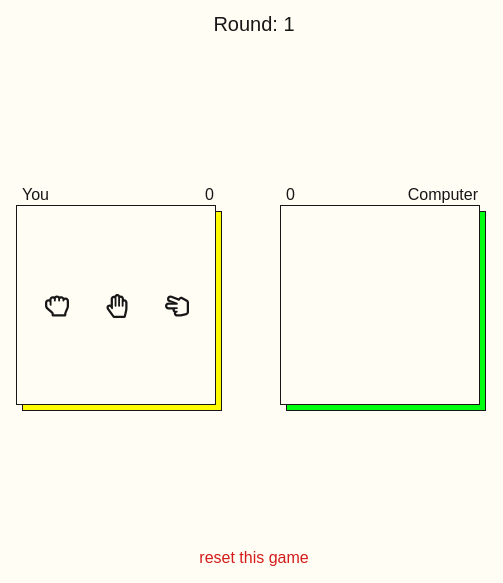
Test: Rock Paper Scissors › User selections › user selects rock
Click the 1st button with test id "rps-user-choice".
click(57, 306)  # box left=37, top=286, right=77, bottom=326
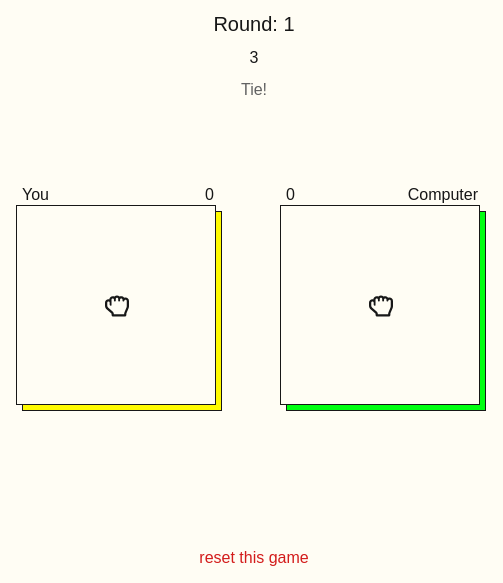
Result: the element with test id "rps-user-selection-0" is shown at left=105, top=294, right=129, bottom=318
